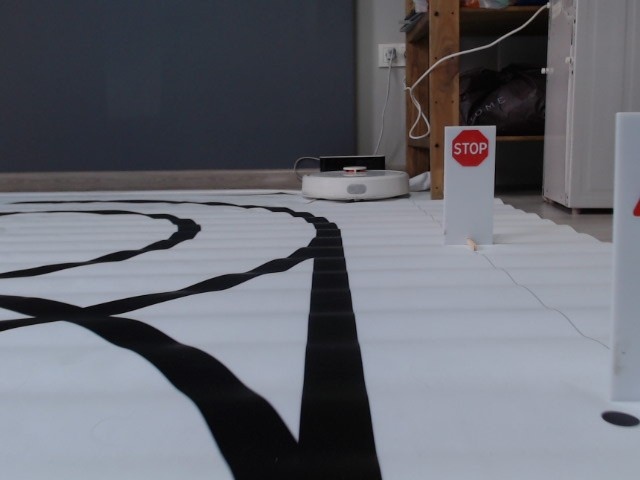Stop: (450, 129, 493, 172)
